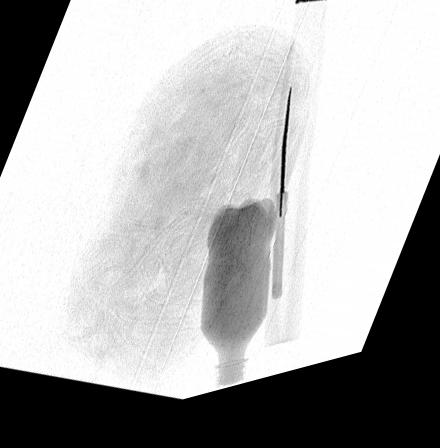Knife: (272, 101, 292, 314)
